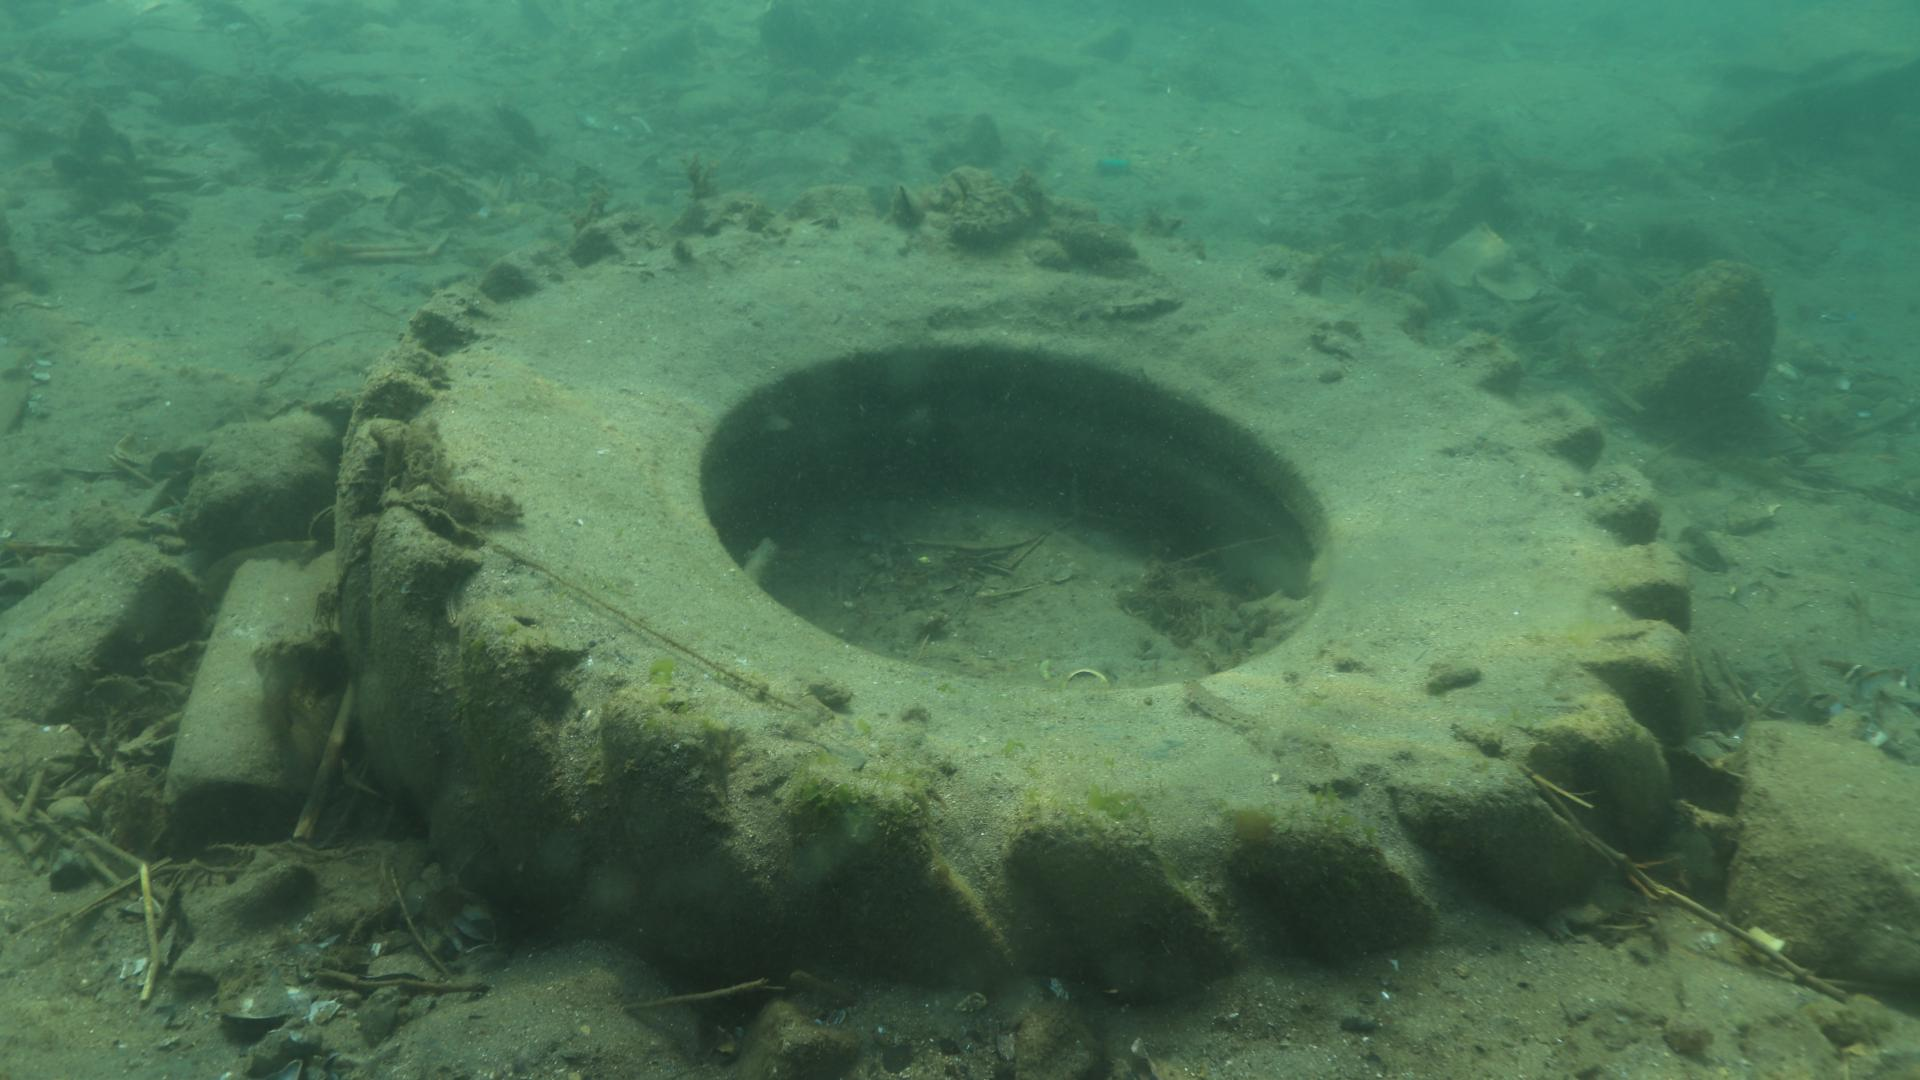tire: (330, 182, 1698, 1022)
